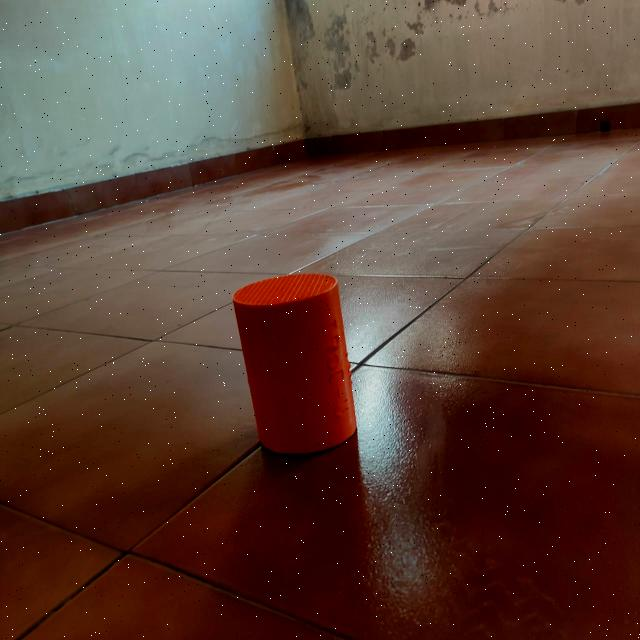Cylinder: (231, 272, 357, 456)
